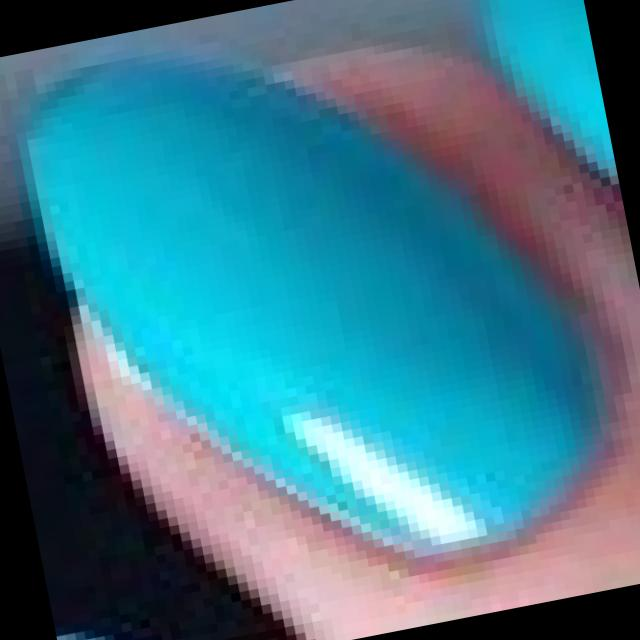Nail: (16, 58, 604, 564)
